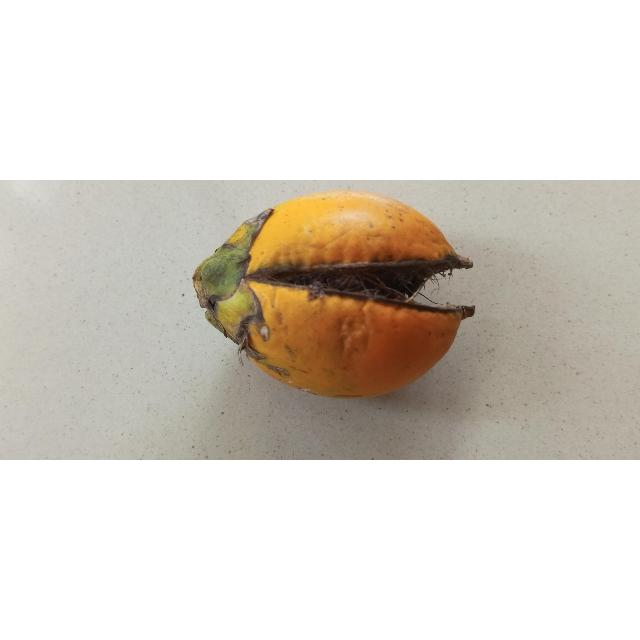damaged: (192, 190, 476, 400)
